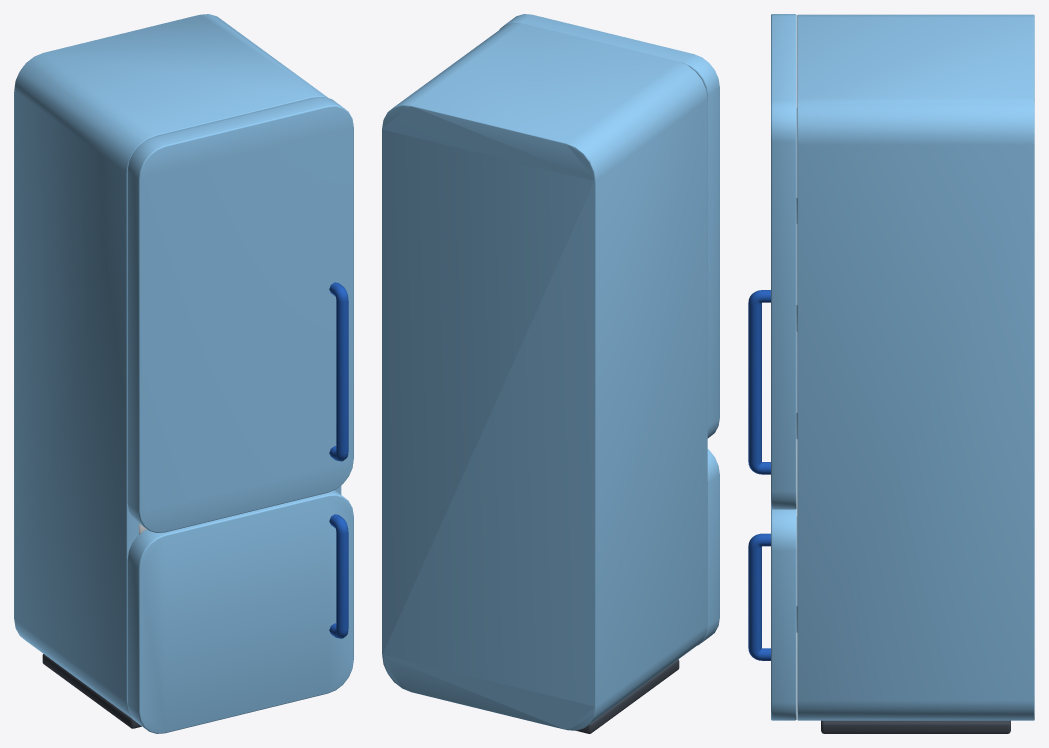
The model's file is geladeira_duas_portas_azul.glb.
3 views of the same model, side by side, from view 1: azimuth 30°, elevation 25°; view 2: azimuth 150°, elevation 25°; view 3: azimuth 270°, elevation 25° (orthographic). The views are drawn at different scales.
Parts seen in each view (by area): view 1: porta_geladeira, geladeira_duas_portas_azul, porta_freezer; view 2: geladeira_duas_portas_azul, porta_geladeira, porta_freezer; view 3: geladeira_duas_portas_azul, porta_geladeira, porta_freezer.
Part boxes in pixels (box(x1,y1,x2,y2)): porta_geladeira: box(127, 97, 353, 532); geladeira_duas_portas_azul: box(14, 14, 341, 728); porta_freezer: box(127, 490, 353, 733); geladeira_duas_portas_azul: box(382, 23, 707, 733); porta_geladeira: box(499, 14, 719, 438); porta_freezer: box(697, 449, 719, 645); geladeira_duas_portas_azul: box(797, 14, 1034, 733); porta_geladeira: box(748, 14, 797, 509); porta_freezer: box(748, 509, 797, 720).
Bounding box in the file's own units: 0.66 × 1.76 × 0.724.
Materials: 2 (1 with a texture image).
